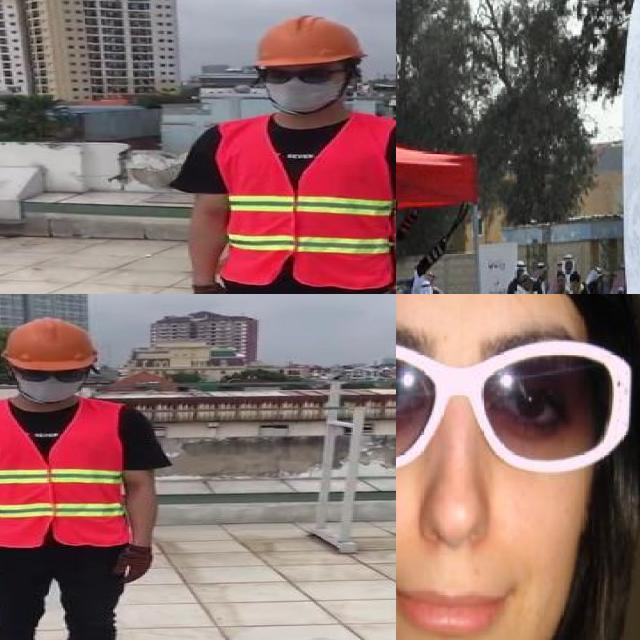face_mask: (250, 60, 352, 119), (17, 364, 85, 402)
face_nomask: (396, 354, 563, 640)
glasses: (396, 320, 640, 475), (254, 62, 346, 92), (14, 366, 91, 386)
hand_glove: (110, 549, 152, 586), (193, 284, 237, 294)
head_helmet: (248, 11, 372, 72), (5, 315, 98, 370)
person: (176, 9, 396, 294), (0, 315, 158, 640)
vest: (218, 115, 394, 290), (0, 399, 128, 546)
